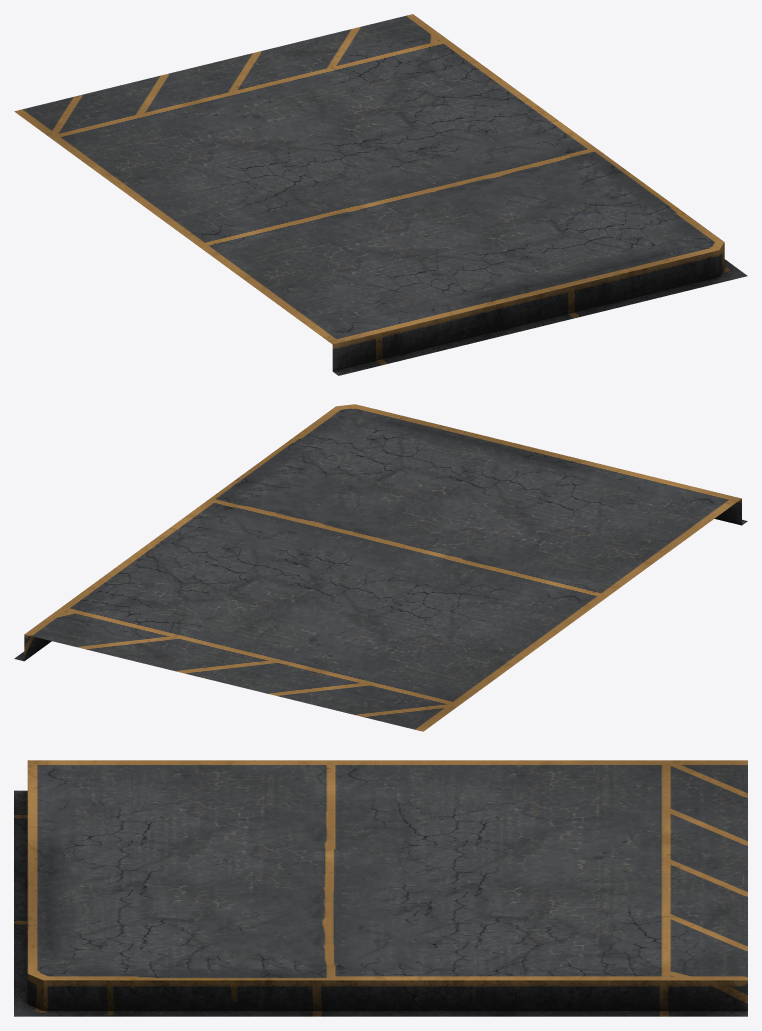
File: Floor_1.fbx
3 renders of one model, top to bottom at view 1: azimuth 30°, elevation 25°; view 2: azimuth 150°, elevation 25°; view 3: azimuth 270°, elevation 25°, orthographic. The views are drawn at different scales.
Visible parts, largest first — view 1: Floor_1; view 2: Floor_1; view 3: Floor_1.
Boxes of the visible parts, x1,y1,x2,y2 form: Floor_1: (14,14,747,375); Floor_1: (14,404,747,731); Floor_1: (14,760,747,1016).
Size of the model in its own units: 2458 by 155 by 3375.
